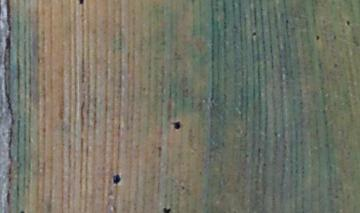tarspot: (171, 119, 182, 130), (111, 174, 122, 184), (155, 144, 163, 152), (283, 16, 290, 25), (162, 207, 171, 213), (346, 17, 351, 26), (250, 30, 257, 36), (333, 62, 340, 68), (315, 33, 320, 41), (179, 185, 186, 190), (78, 1, 85, 5), (333, 34, 337, 40), (19, 210, 26, 213)
